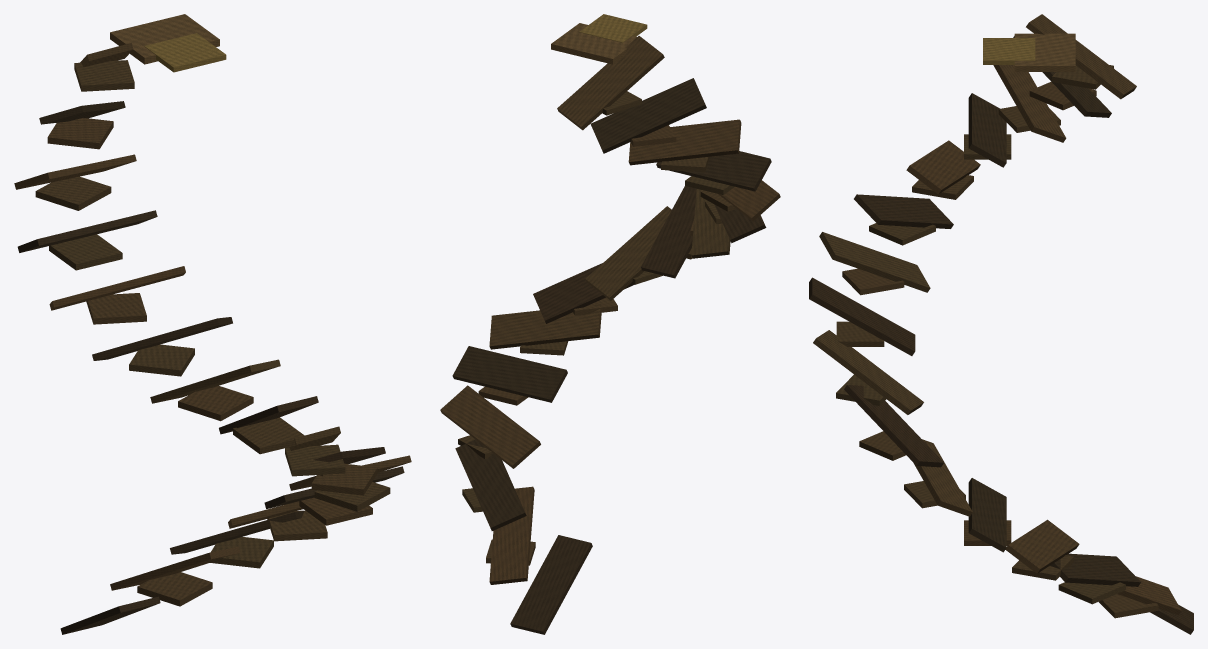
Rendered from yggdrasil-crown-ascent-merged.collider.glb.
The picture shows the model from 3 angles, left to right: view 1: azimuth 30°, elevation 25°; view 2: azimuth 150°, elevation 25°; view 3: azimuth 270°, elevation 25°; orthographic projection. The views are drawn at different scales.
Visible parts, largest first — view 1: Crown Threshold Platform, Crown Bridge, Crown Landing 9, Crown Landing 12, Crown Landing 13, Crown Landing 1, Crown Landing 8, Crown Landing 10, Crown Landing 14, Crown Landing 15, Crown Landing 11, Crown Landing 7 (+21 smaller); view 2: Crown Ramp 5, Crown Ramp 1, Crown Ramp 15, Crown Ramp 16, Crown Ramp 4, Crown Ramp 6, Crown Ramp 14, Crown Ramp 3, Crown Ramp 2, Crown Ramp 9, Crown Ramp 8, Crown Ramp 13 (+11 smaller); view 3: Crown Ramp 9, Crown Ramp 10, Crown Ramp 8, Crown Ramp 11, Crown Ramp 7, Crown Ramp 5, Crown Ramp 13, Crown Ramp 14, Crown Ramp 4, Crown Ramp 12, Crown Ramp 3, Crown Ramp 16 (+19 smaller).
Part boxes in pixels (x1,y1,x2,y2): Crown Threshold Platform: (110, 14, 219, 64); Crown Bridge: (144, 33, 226, 72); Crown Landing 9: (178, 386, 253, 421); Crown Landing 12: (49, 234, 122, 270); Crown Landing 13: (35, 176, 111, 210); Crown Landing 1: (137, 572, 212, 606); Crown Landing 8: (233, 417, 304, 454); Crown Landing 10: (129, 344, 194, 376); Crown Landing 14: (47, 118, 113, 149); Crown Landing 15: (74, 60, 134, 91); Crown Landing 11: (86, 293, 146, 324); Crown Landing 7: (285, 444, 345, 476); Crown Ramp 5: (452, 346, 567, 402); Crown Ramp 1: (510, 535, 592, 634); Crown Ramp 15: (590, 78, 706, 153); Crown Ramp 16: (557, 36, 664, 130); Crown Ramp 4: (440, 385, 540, 468); Crown Ramp 6: (489, 303, 601, 349); Crown Ramp 14: (628, 119, 741, 165); Crown Ramp 3: (455, 439, 526, 530); Crown Ramp 2: (489, 486, 534, 584); Crown Ramp 9: (641, 186, 696, 278); Crown Ramp 8: (585, 206, 671, 300); Crown Ramp 13: (656, 151, 771, 191); Crown Ramp 9: (809, 277, 915, 355); Crown Ramp 10: (819, 232, 930, 292); Crown Ramp 8: (813, 330, 923, 414); Crown Ramp 11: (854, 194, 953, 228); Crown Ramp 7: (844, 385, 943, 467); Crown Ramp 5: (968, 478, 1006, 552); Crown Ramp 13: (968, 93, 1006, 167); Crown Ramp 14: (993, 65, 1066, 142); Crown Ramp 4: (1005, 519, 1079, 573); Crown Ramp 12: (906, 140, 980, 194); Crown Ramp 3: (1050, 553, 1141, 586); Crown Ramp 16: (1026, 14, 1136, 99).
Size of the model in its own units: 61.89 by 108 by 64.04.
33 materials, 33 textured.
